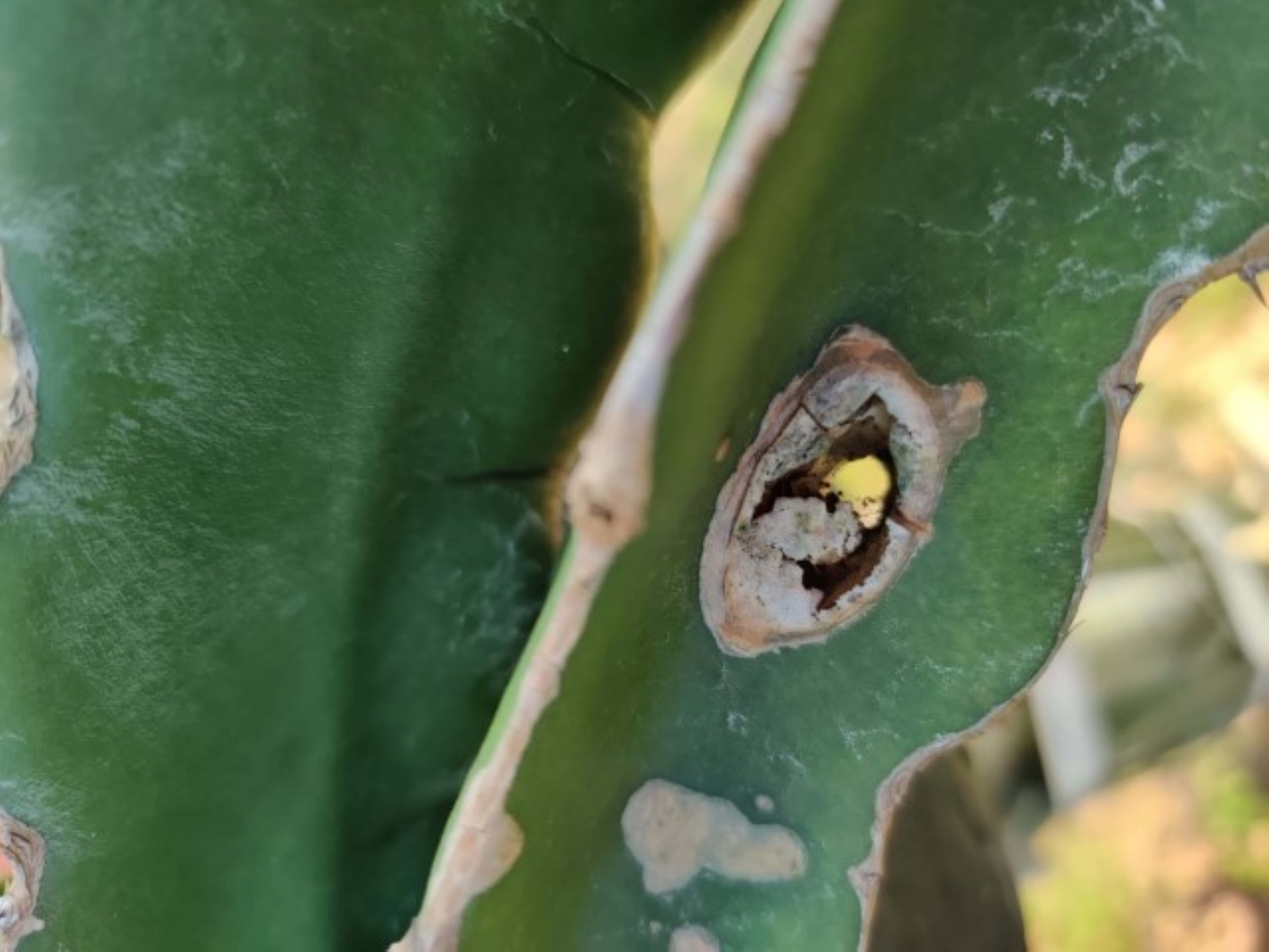stemcanker: (599, 311, 1077, 941)
